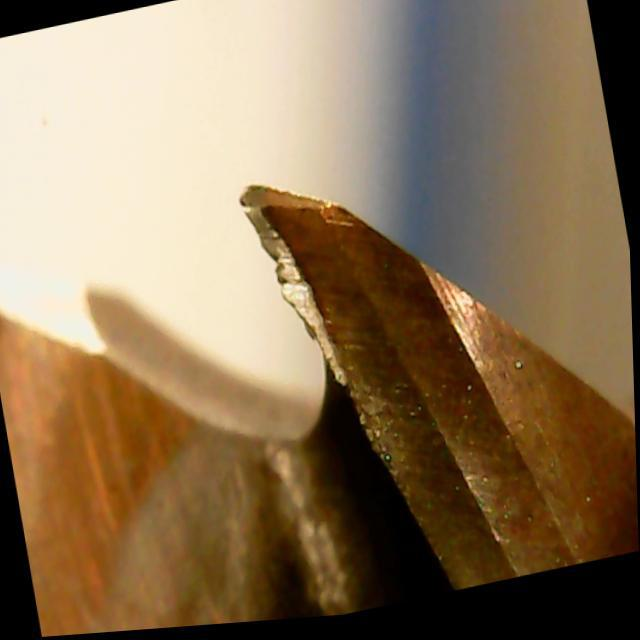Tool-wear-class-2: (233, 144, 450, 441)
